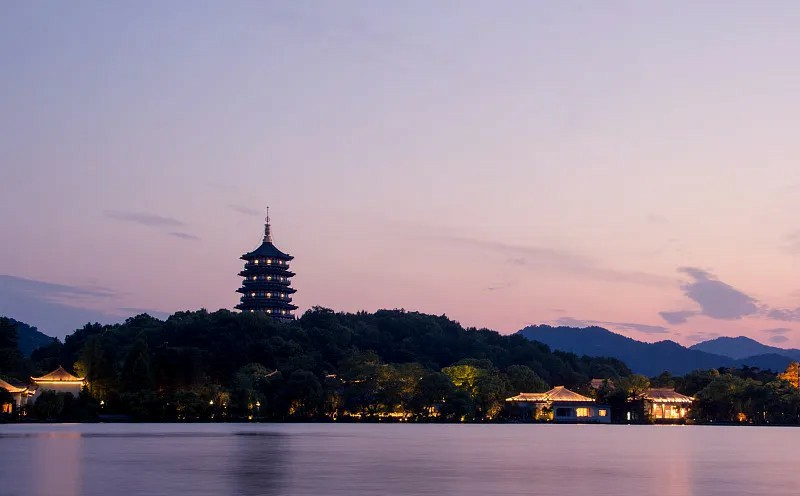Leifeng: (232, 206, 300, 323)
